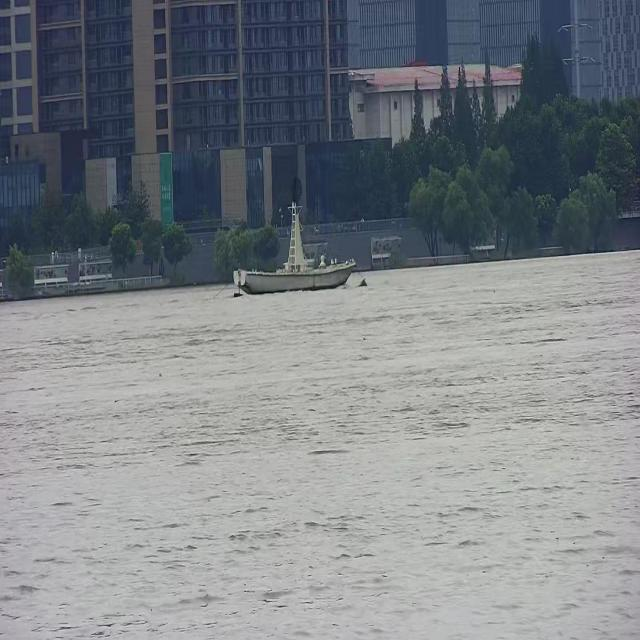ship2: (236, 151, 355, 293)
